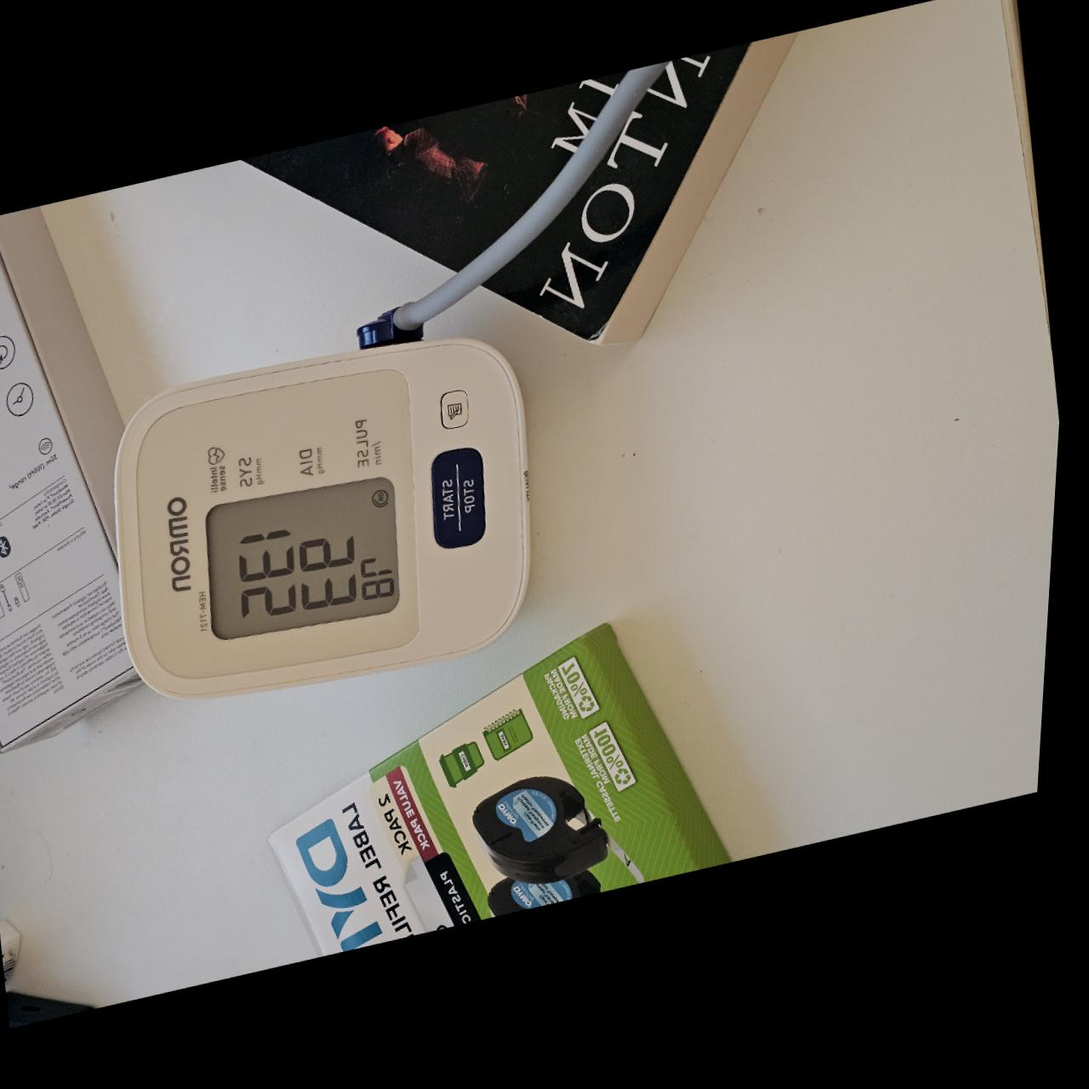blood pressure monitor: (82, 302, 570, 738)
